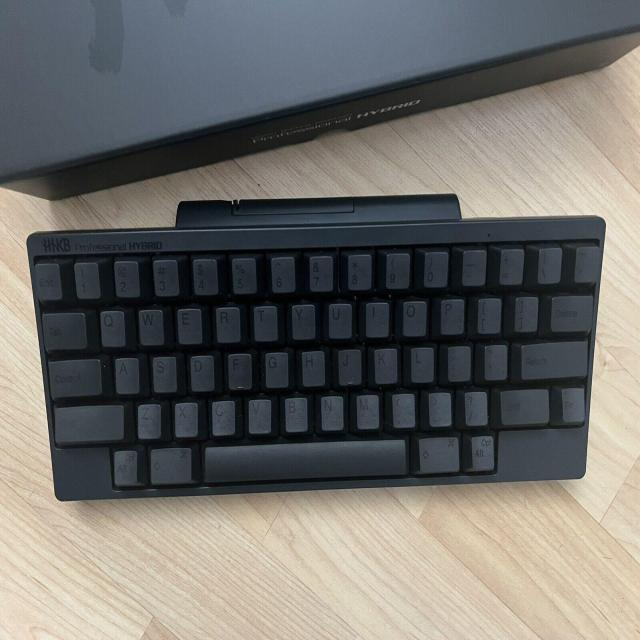keyboard: (26, 215, 602, 497)
